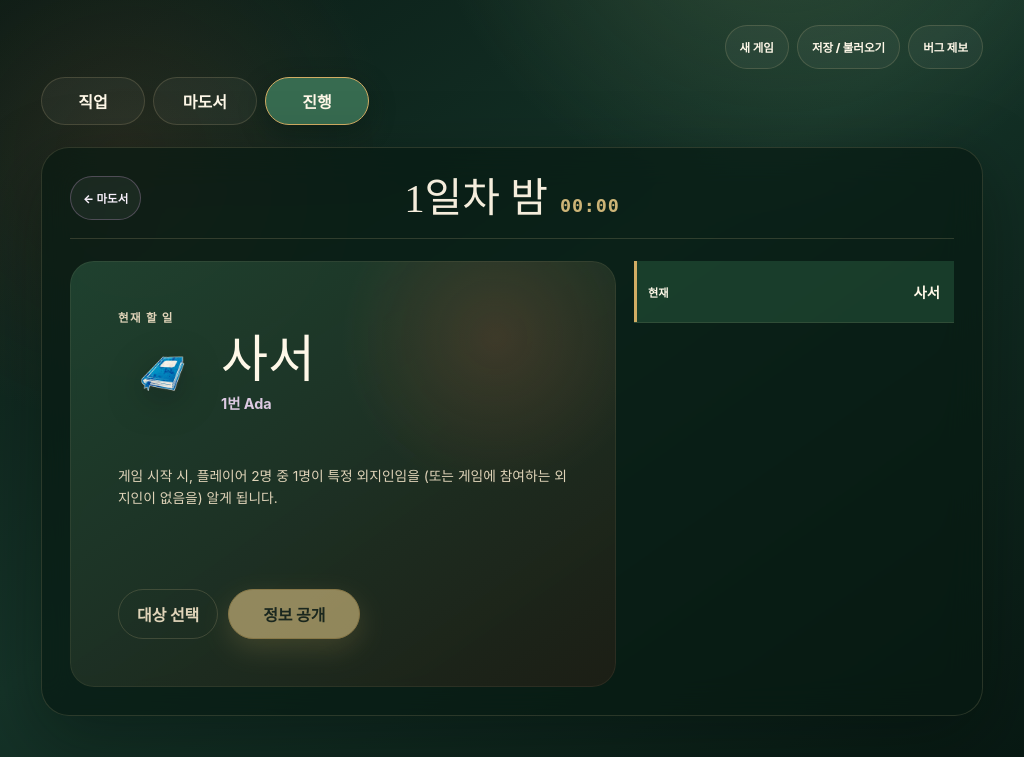
사서 마도서는 취급 가능한 플레이어를 유효한 조합 후보로 남긴다
(page scrolled)
What coordinates should you click on to do the following:
click the button "대상 선택"
I would click on:
 (168, 614)
Its box is [118,589,218,639].
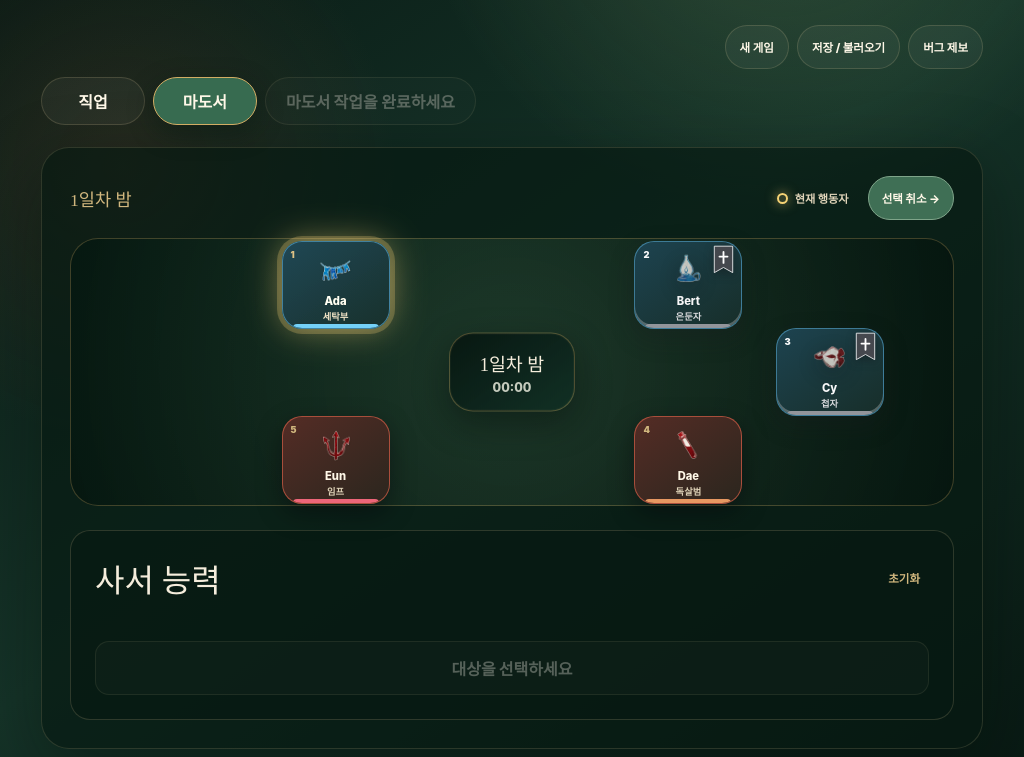
What coordinates should you click on to do the following:
click the button "5 Eun 임프"
I would click on:
 (336, 460)
Its box is [282,416,390,504].
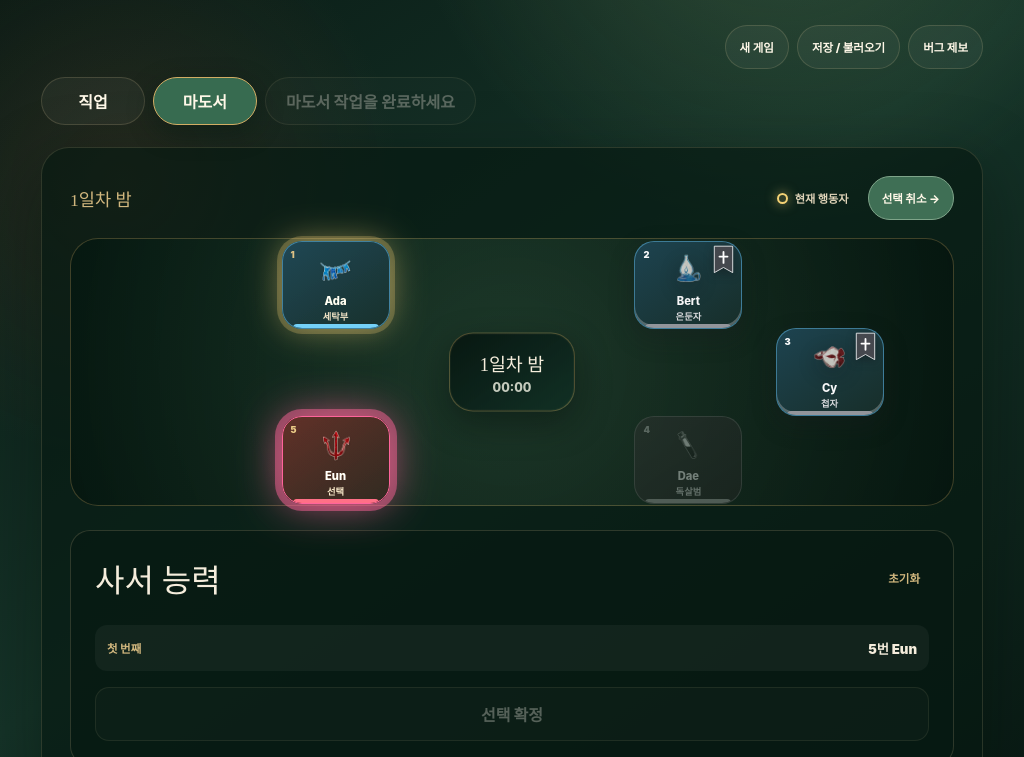
What coordinates should you click on to do the following:
click the button "3 Cy 첩자"
I would click on:
 (830, 372)
Its box is [776,328,884,416].
(page scrolled)
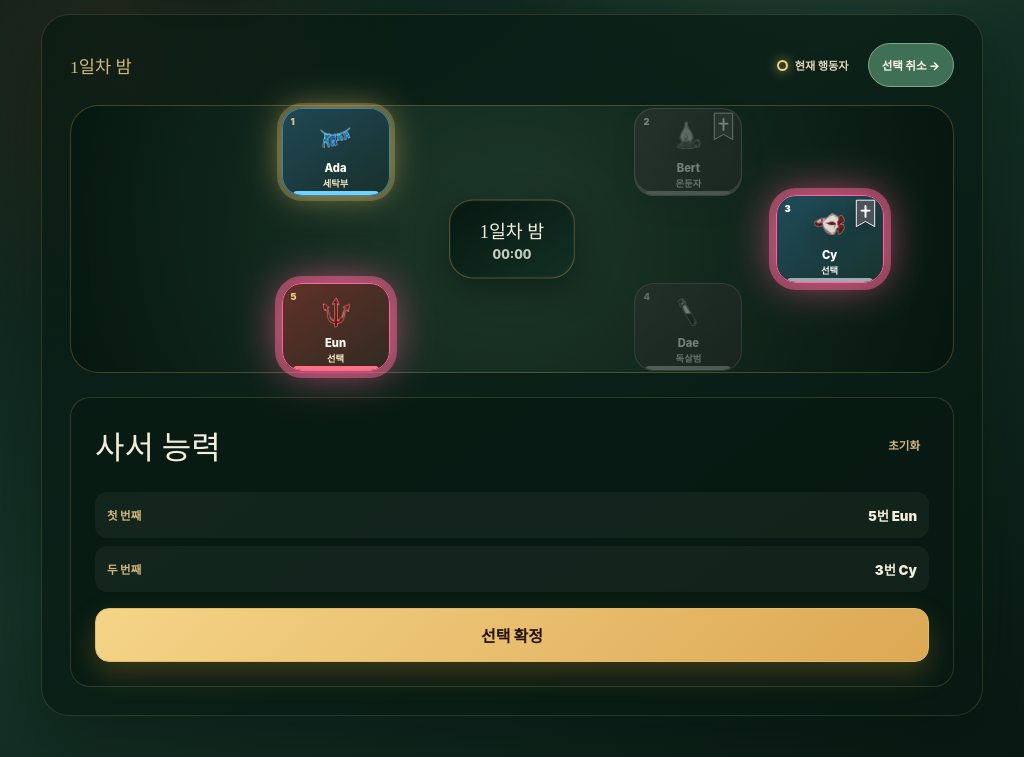
Check: the button "선택 확정" is enabled, box [95,608,929,662]
